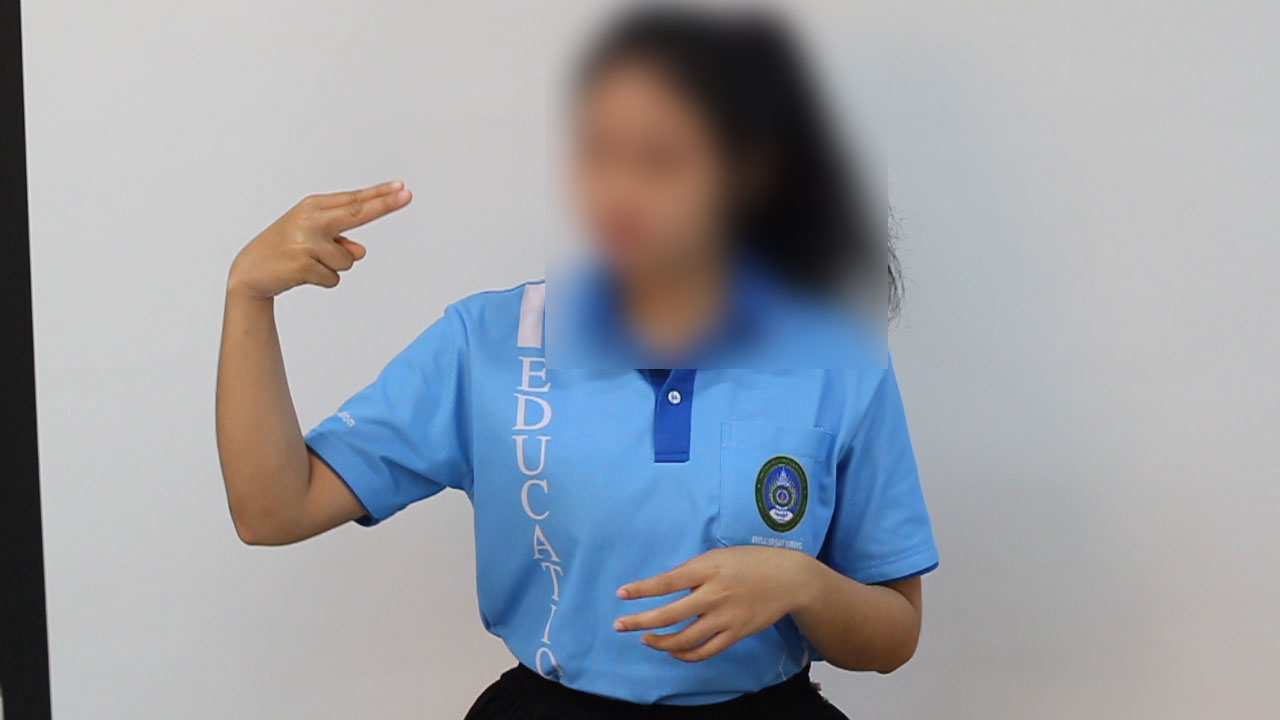hor: (196, 175, 444, 304)
